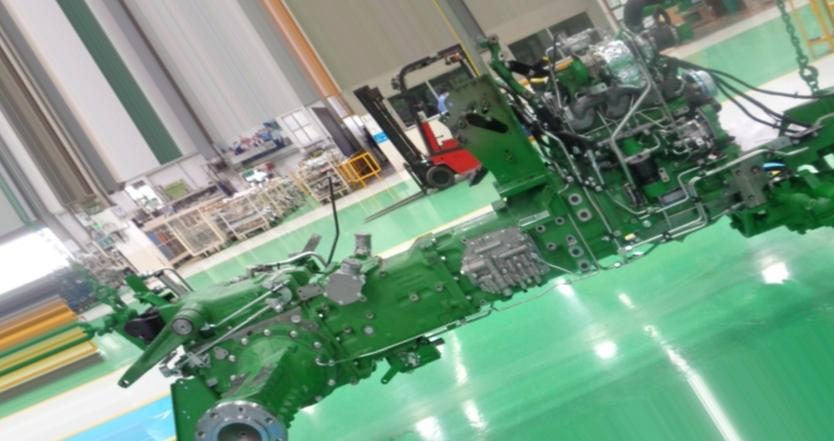engine: (99, 40, 834, 441)
